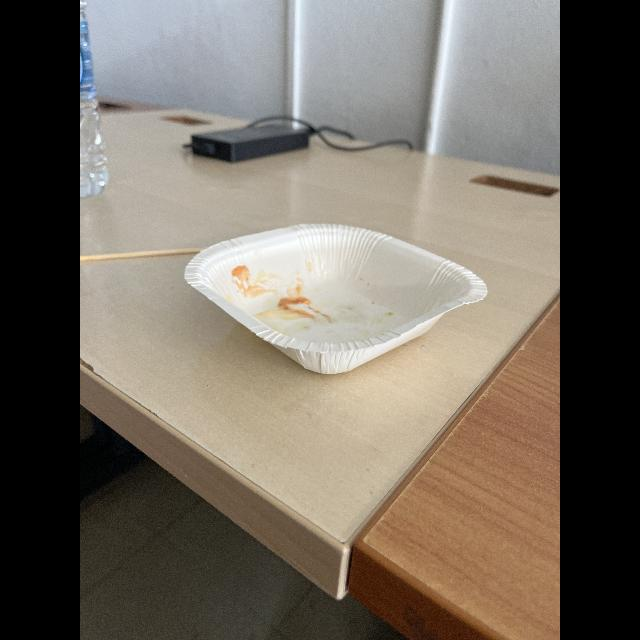cardboard_bowl: (177, 220, 491, 380)
stick: (80, 240, 206, 264)
